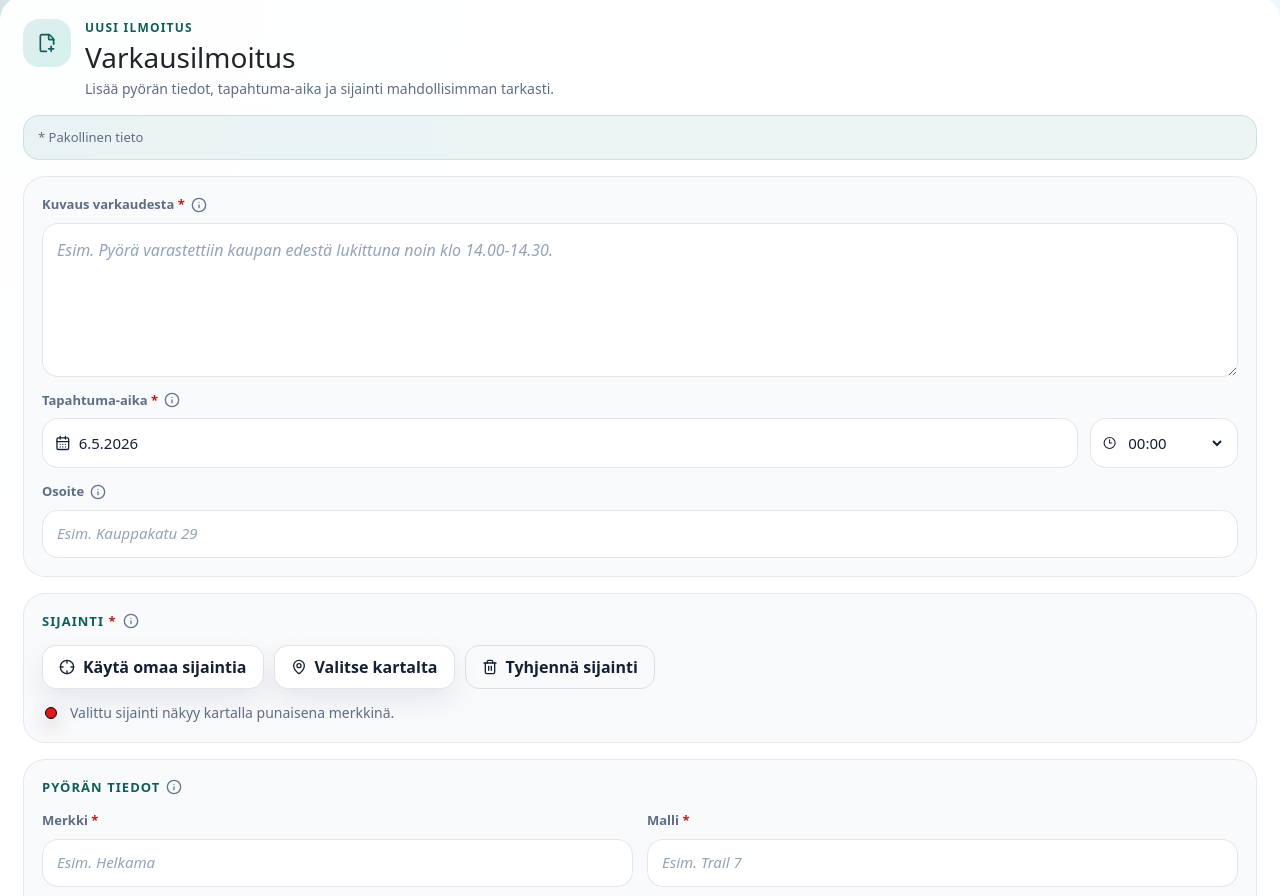
TheftReportForm - validointi - pakolliset pyörätiedot › näyttää virheen jos merkki puuttuu
Replace the text in the text box with placeholder "Kuvaus varkaudesta *" with "Pyörä vietiin pihasta.": (640,300) [42,223,1238,377]
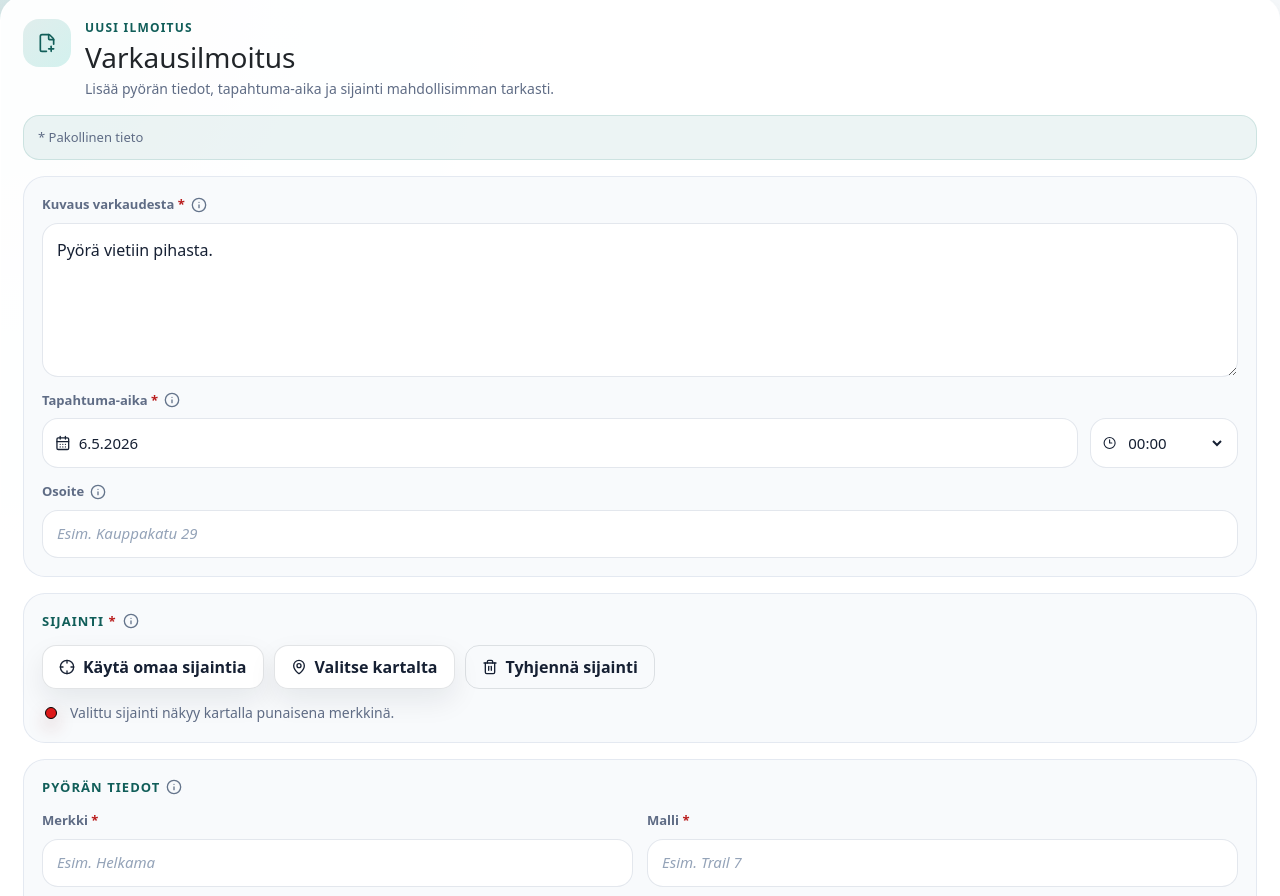
In the field with placeholder "Esim. Trail 7": (942,862) [647,838,1238,886], type "Trail 7"
(page scrolled)
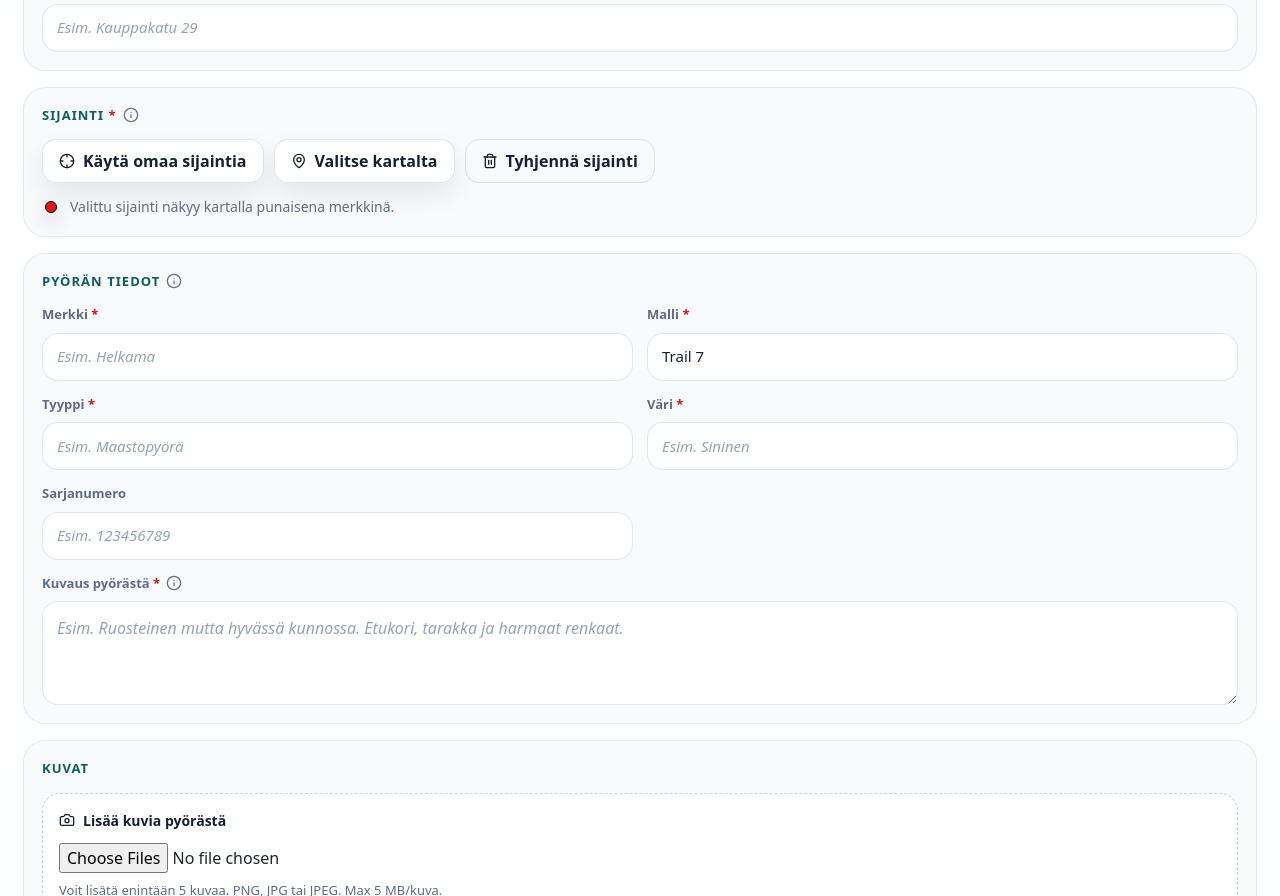
In the field with placeholder "Esim. Maastopy.r.": (338,446) [42,422,633,470], type "Maastopyörä"
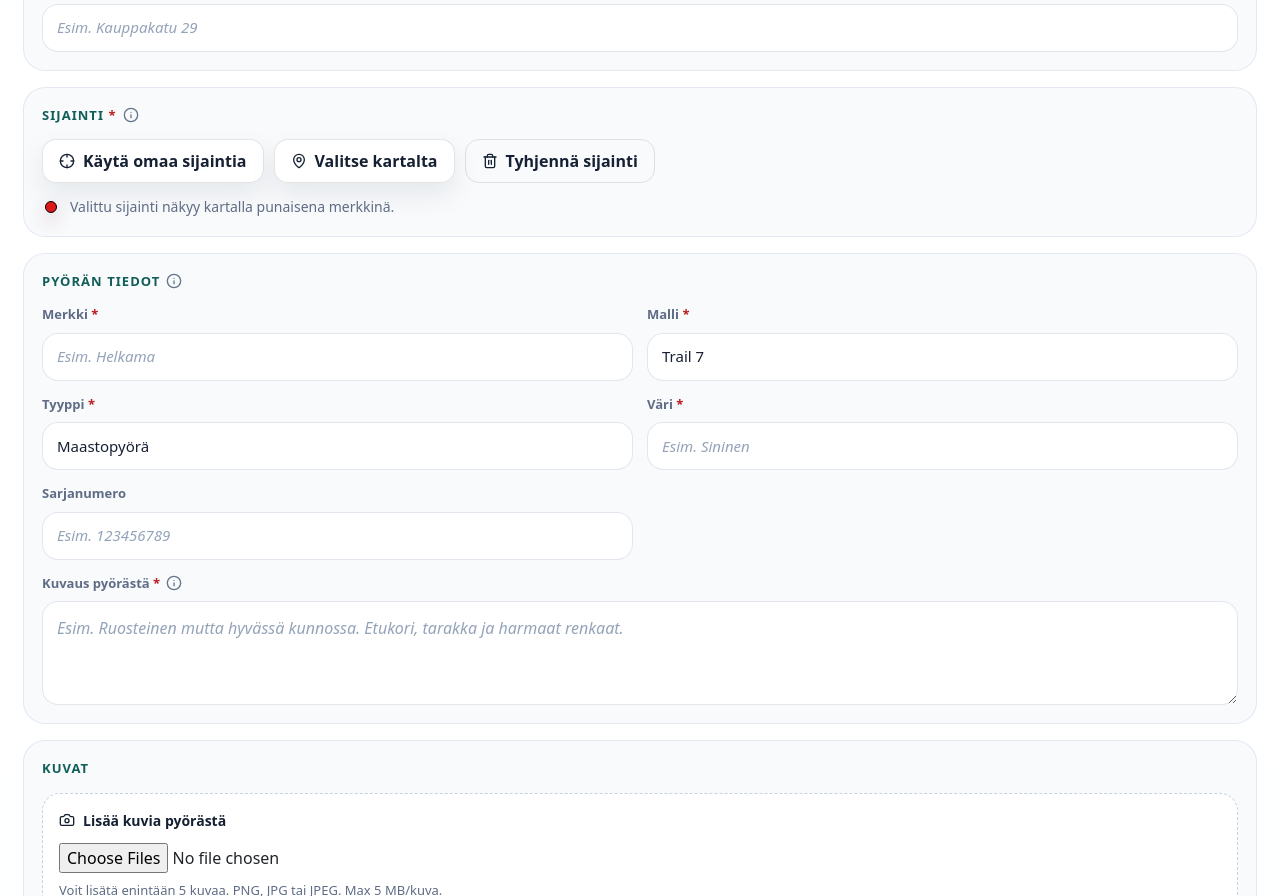
In the field with placeholder "Esim. Sininen": (942,446) [647,422,1238,470], type "Sininen"
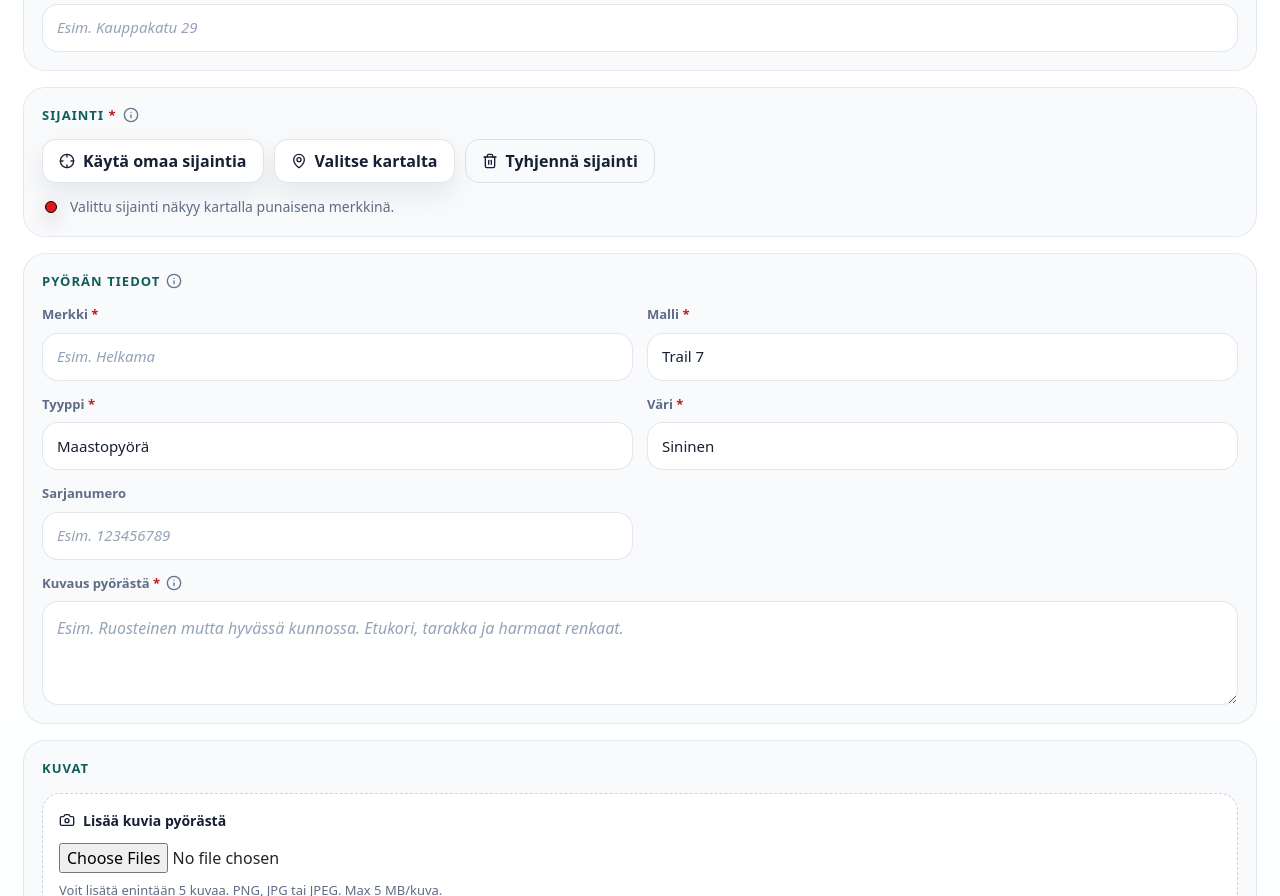
Replace the text in the text box with placeholder "Kuvaus pyörästä *" with "Etukori ja tarakka.": (640,653) [42,601,1238,705]
(page scrolled)
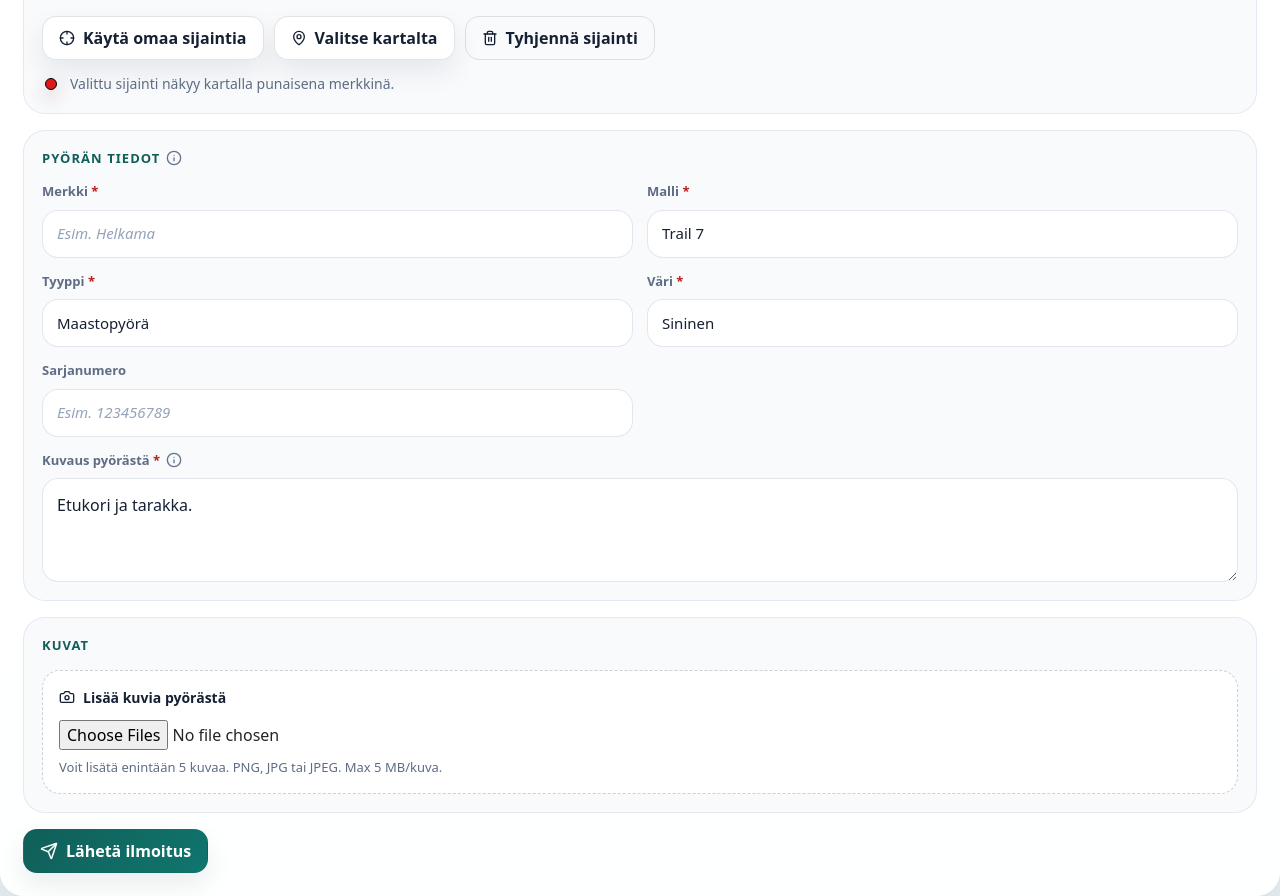
Click the button "Lähetä ilmoitus": (116,851) [23,829,208,873]
(page scrolled)
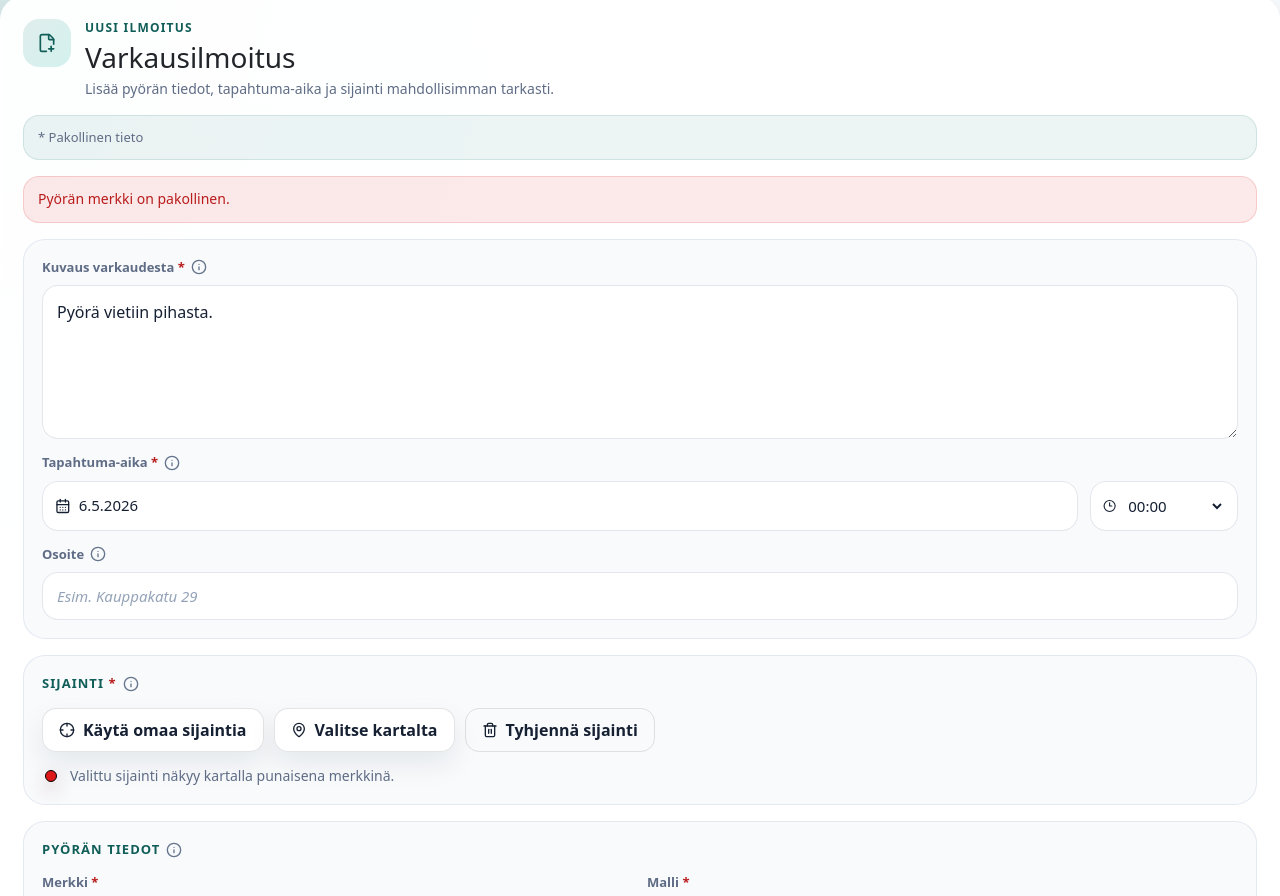
Expected: the text "Pyörän merkki on pakollinen." is shown, [23,176,1257,222]
